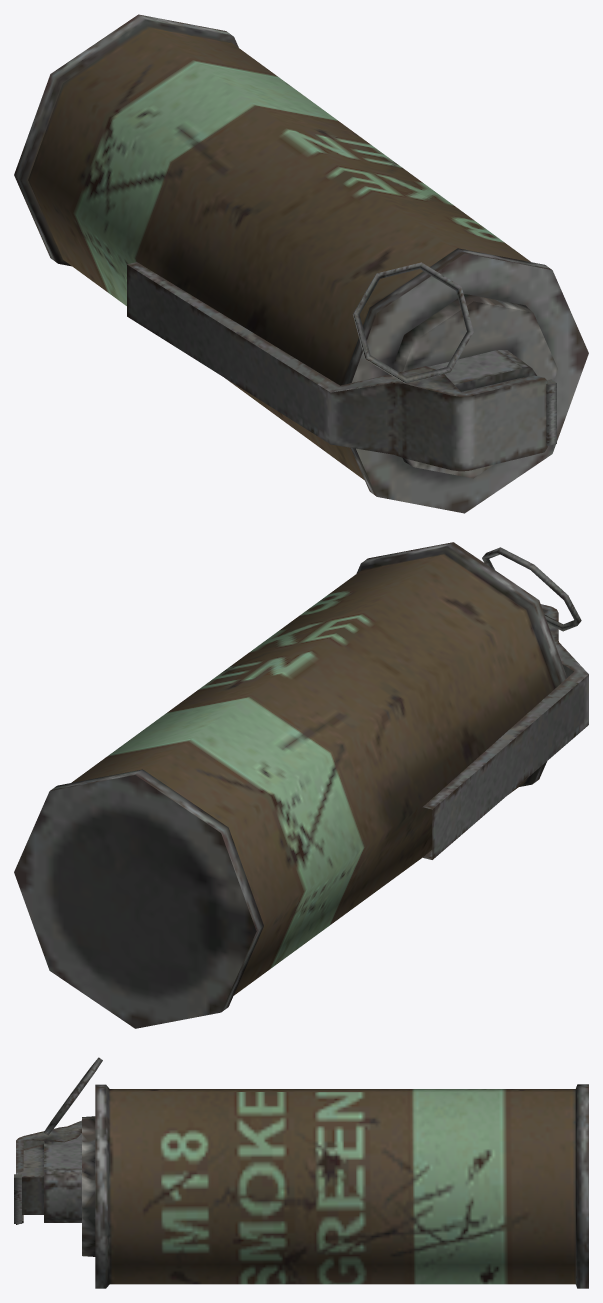
The model's file is weapon_usa_smoke_grenade_lod10.obj.
The picture shows the model from 3 angles, top to bottom: view 1: azimuth 30°, elevation 25°; view 2: azimuth 150°, elevation 25°; view 3: azimuth 270°, elevation 25°; orthographic projection. The views are drawn at different scales.
Visible parts, largest first — view 1: TomGroup_0; view 2: TomGroup_0; view 3: TomGroup_0.
Boxes of the visible parts, x1,y1,x2,y2 form: TomGroup_0: (14, 14, 588, 513); TomGroup_0: (14, 542, 588, 1028); TomGroup_0: (14, 1057, 588, 1288).
Bounding box in the file's own units: 6.2 × 5.54 × 14.45.
1 material, 1 textured.
